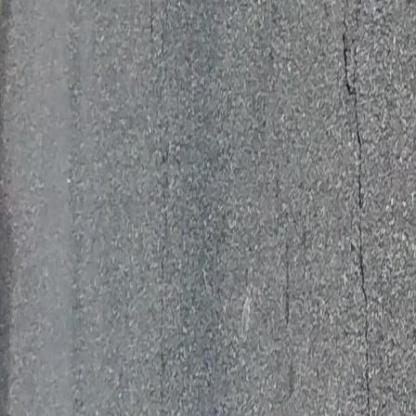Cracks: (268, 0, 416, 416)
